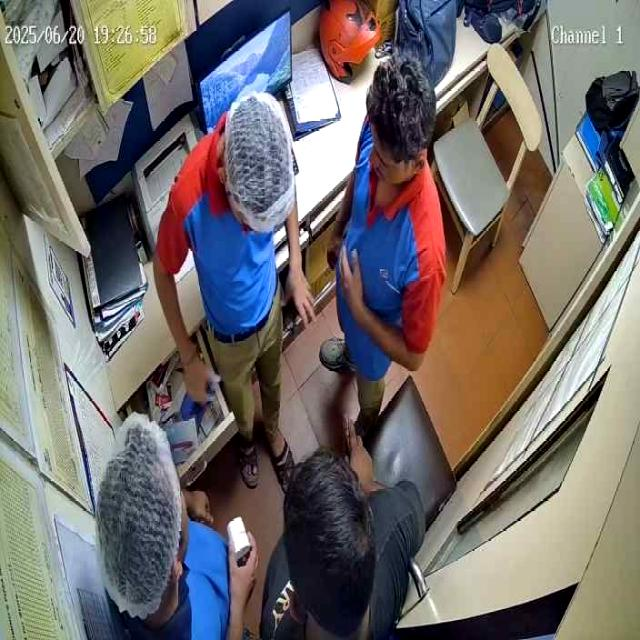helmet: (318, 0, 382, 83)
no_helmet: (365, 50, 439, 184)
